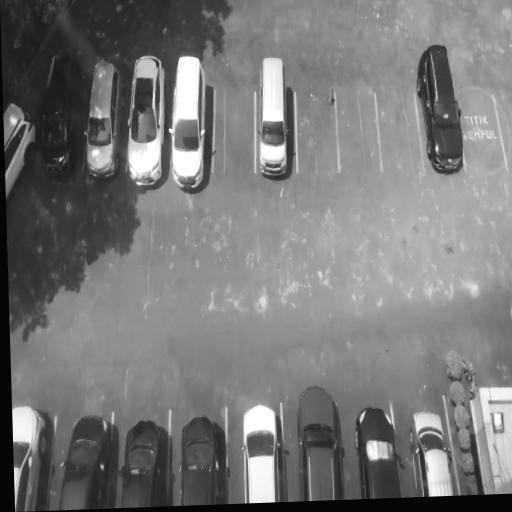Car: (170, 45, 214, 199), (416, 41, 464, 178), (296, 376, 347, 500), (124, 45, 167, 190), (58, 405, 116, 508), (405, 395, 461, 495), (256, 52, 295, 189), (84, 51, 123, 185), (38, 50, 79, 175), (179, 405, 229, 504), (14, 401, 57, 512), (119, 412, 169, 506), (241, 400, 287, 502), (355, 402, 402, 499), (3, 88, 41, 203)
Space Available: (461, 62, 505, 176), (376, 77, 423, 182), (214, 75, 257, 185), (296, 77, 338, 189), (337, 80, 380, 184)
